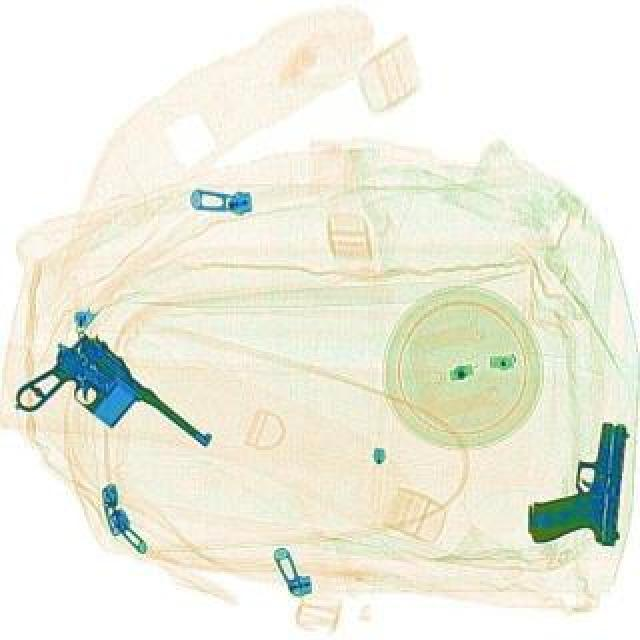gun: (4, 318, 216, 508), (524, 414, 628, 546)
